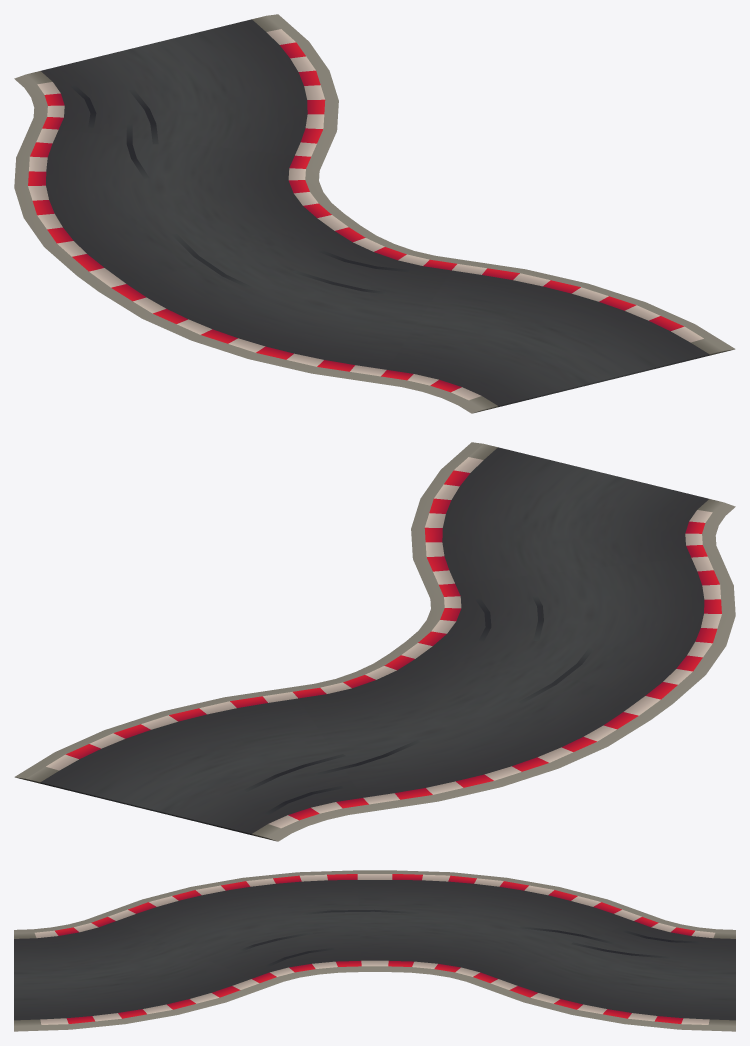
File: Serpentine_1A_Medium.fbx
3 views of the same model, one above another, from view 1: azimuth 30°, elevation 25°; view 2: azimuth 150°, elevation 25°; view 3: azimuth 270°, elevation 25° (orthographic). The views are drawn at different scales.
Visible parts, largest first — view 1: Serpentine_1A_Medium, Serpentine_1A_Medium_Skidmarks; view 2: Serpentine_1A_Medium, Serpentine_1A_Medium_Skidmarks; view 3: Serpentine_1A_Medium, Serpentine_1A_Medium_Skidmarks.
Part boxes in pixels (x1,y1,x2,y2): Serpentine_1A_Medium: [14, 14, 735, 413]; Serpentine_1A_Medium_Skidmarks: [70, 85, 408, 294]; Serpentine_1A_Medium: [14, 442, 735, 841]; Serpentine_1A_Medium_Skidmarks: [243, 596, 593, 814]; Serpentine_1A_Medium: [14, 870, 735, 1031]; Serpentine_1A_Medium_Skidmarks: [239, 909, 698, 966].
Bounding box in the file's own units: 3172 × 10.4 × 6000.
